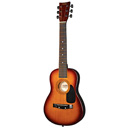guitar: (43, 2, 86, 126)
